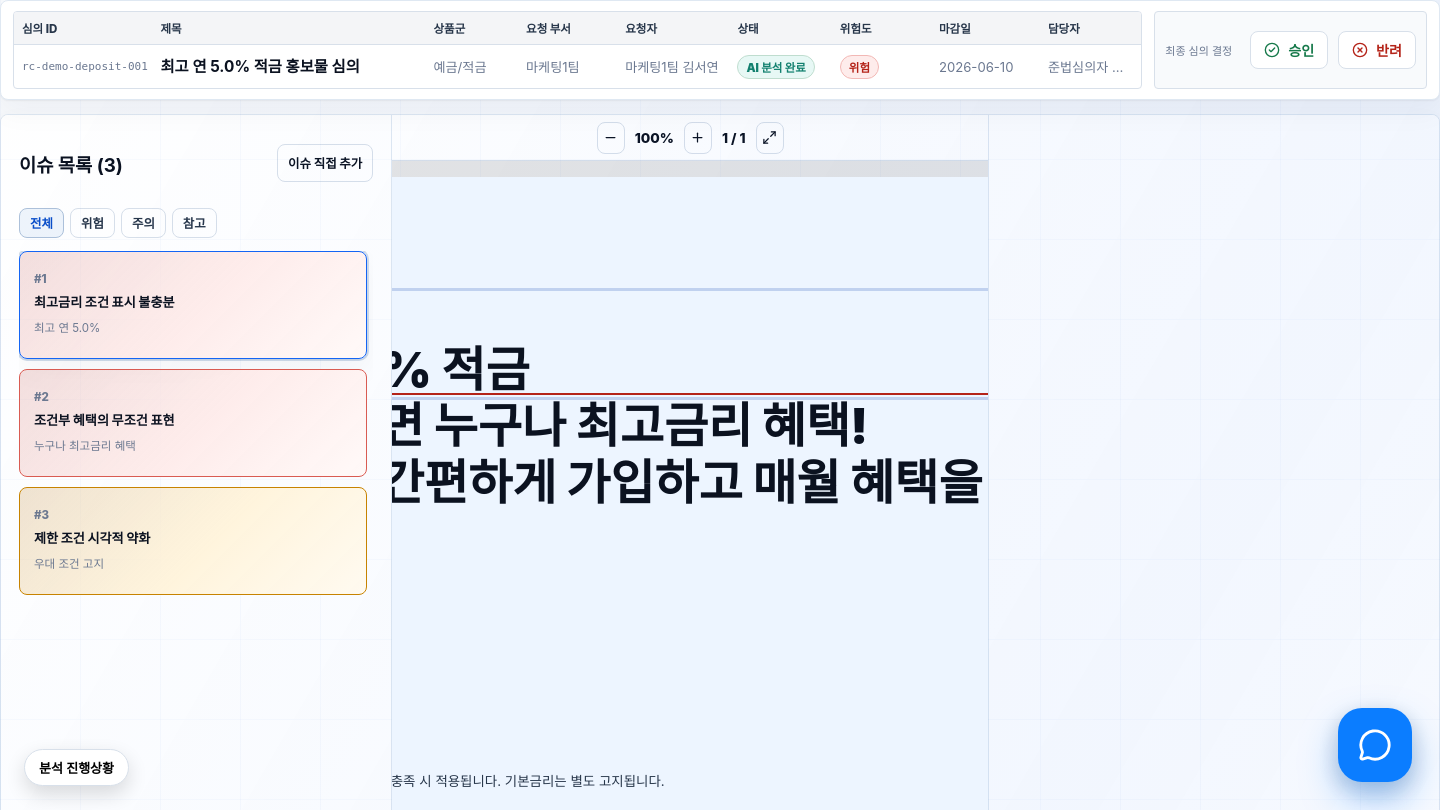
Test: ReviewDetailWorkspace › does not render evidence document names under chat answers
Click the button named "근거 채팅 열기" at (1375, 745), box [1338,708,1412,782]
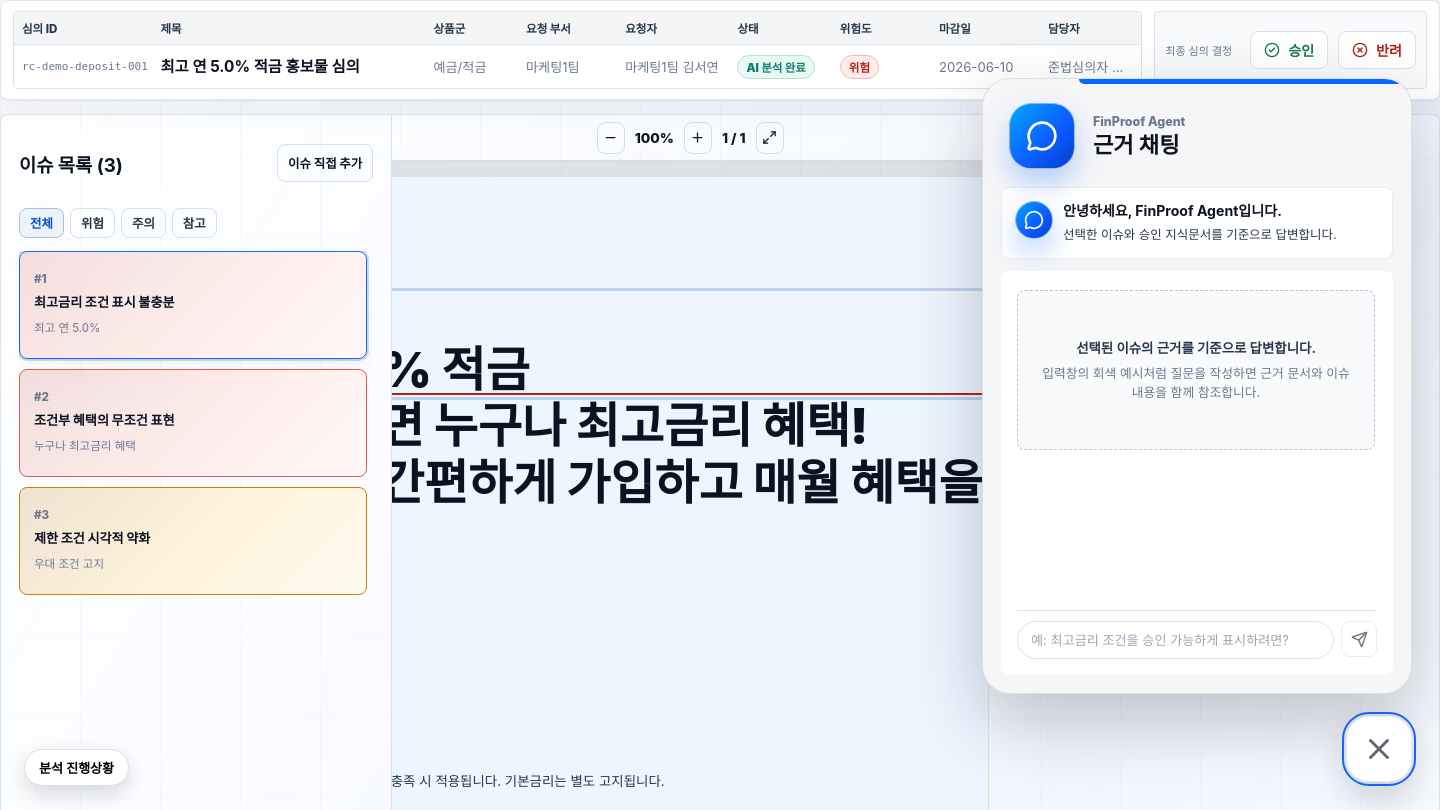
Type "이 문구의 근거를 확인해줘" into the field named "RAG question" at (1176, 640), box [1017,621,1334,659]
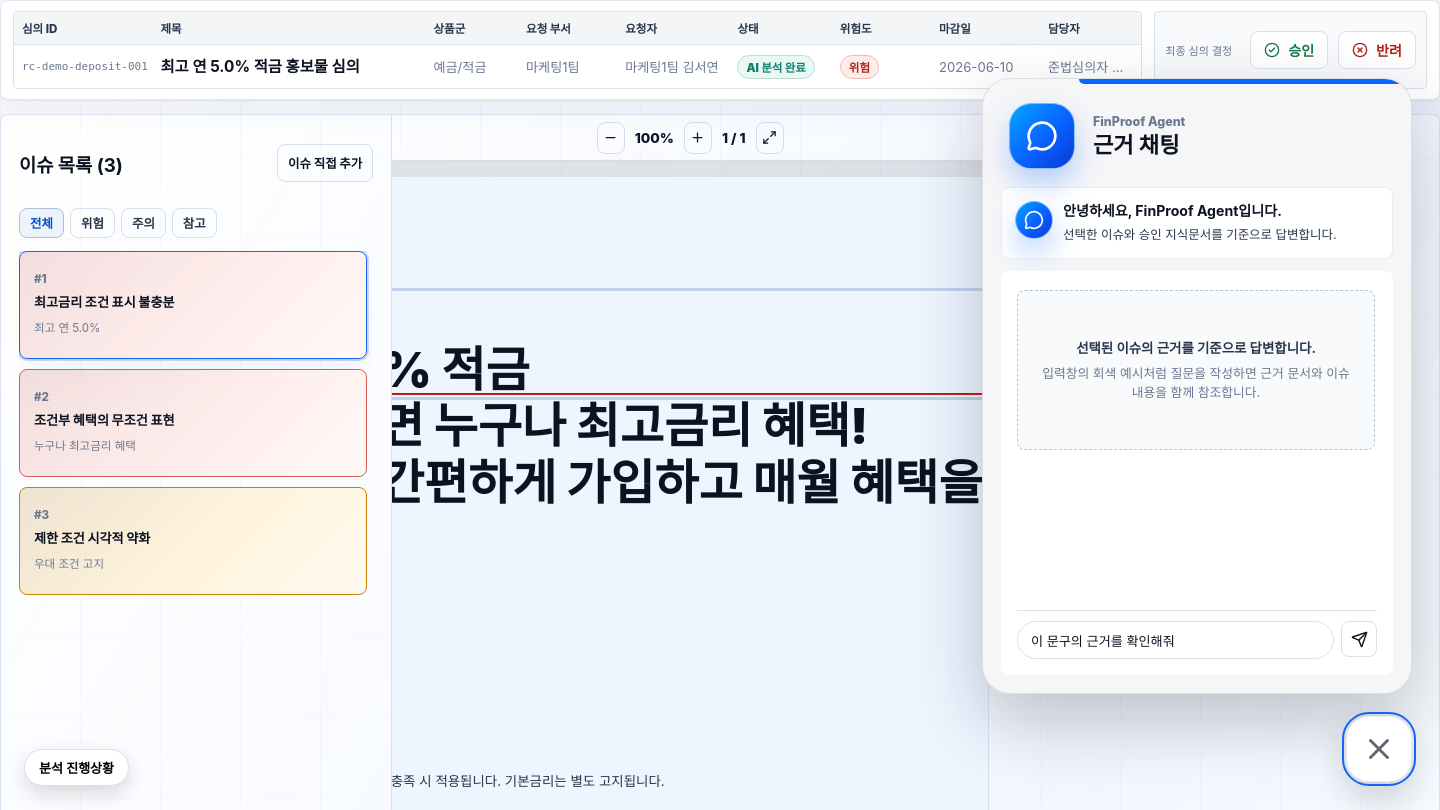
Click the button named "질문 보내기" at (1359, 639), box [1341,621,1377,657]
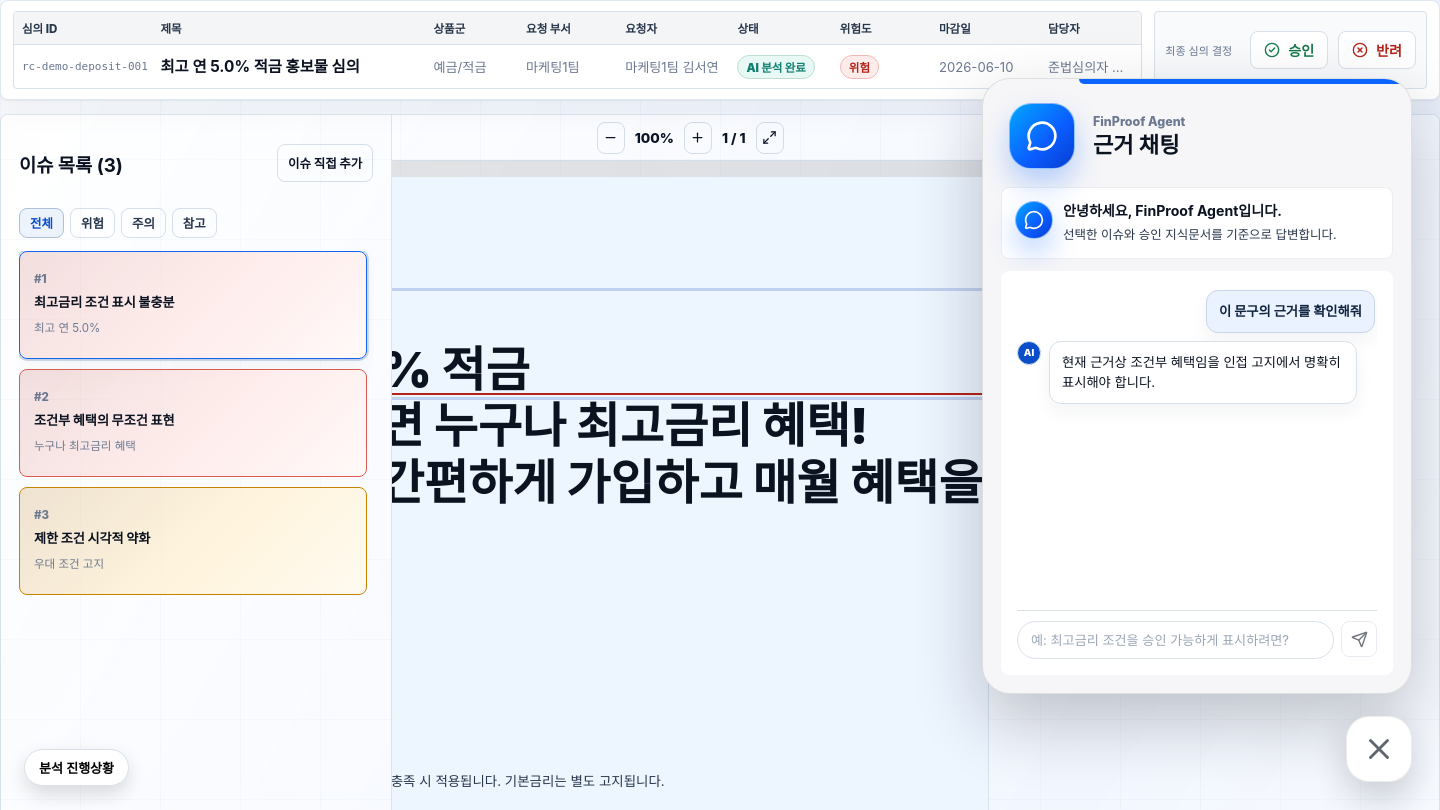
Expected: the text "현재 근거상 조건부 혜택임을 인접 고지에서 명확히 표시해야 합니다." is shown, [1062,354,1341,390]
